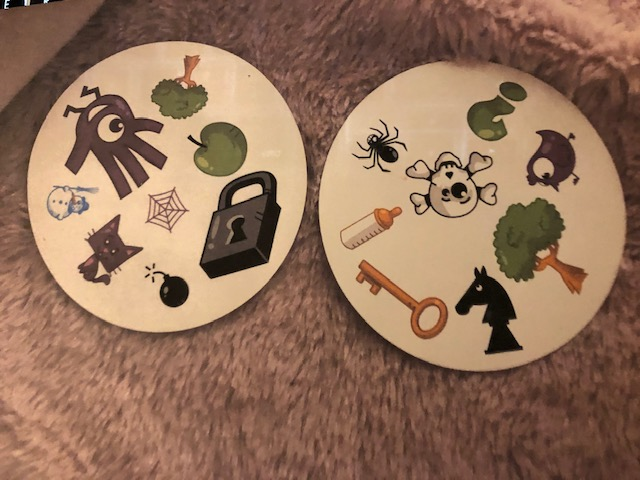araignee: (347, 114, 412, 177)
arbre: (489, 196, 594, 298), (152, 49, 208, 121)
biberon: (338, 204, 403, 250)
bombe: (141, 259, 195, 308)
bonhomme_neige: (45, 184, 101, 220)
cadenas: (194, 164, 281, 278)
chat: (75, 213, 145, 288)
cheval: (451, 262, 527, 357)
cle: (348, 254, 450, 341)
dooble: (51, 81, 170, 199)
oiseau: (520, 125, 581, 197)
point_interrogation: (461, 77, 529, 142)
pomme: (186, 118, 249, 179)
tete_mort: (403, 148, 500, 219)
toile: (143, 185, 191, 234)
